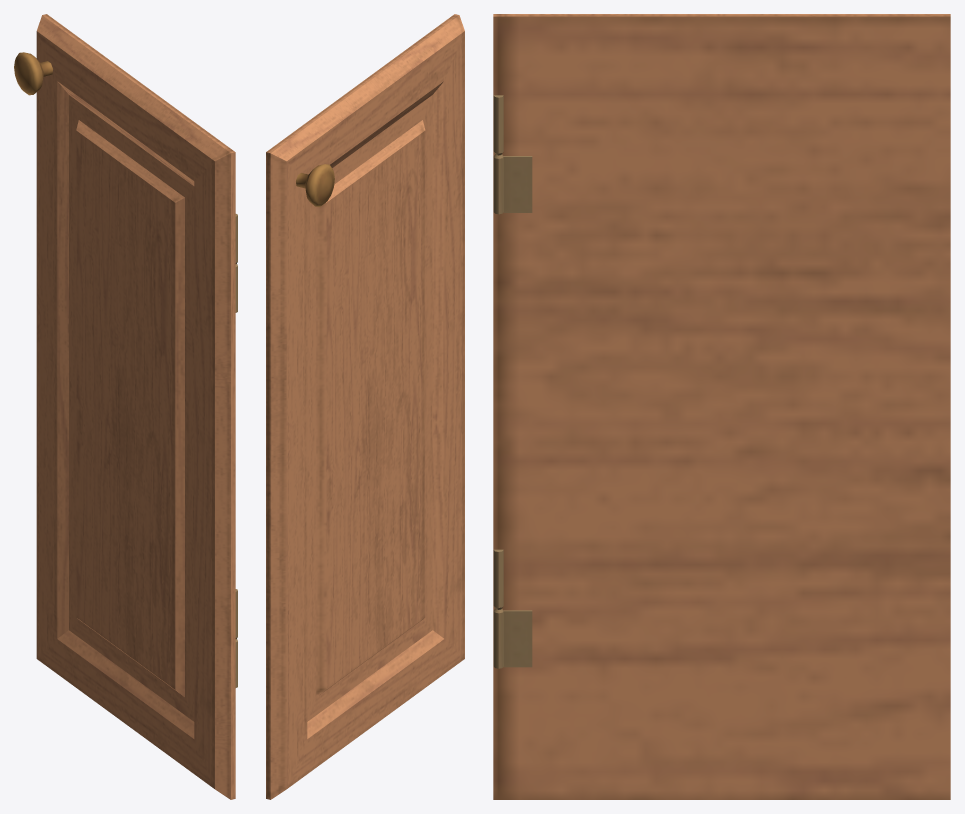
File: SM_BathShelf_A1_DoorB.fbx
3 views of the same model, side by side, from view 1: azimuth 30°, elevation 25°; view 2: azimuth 150°, elevation 25°; view 3: azimuth 270°, elevation 25° (orthographic). The views are drawn at different scales.
Visible parts, largest first — view 1: SM_BathShelf_A1_DoorB; view 2: SM_BathShelf_A1_DoorB; view 3: SM_BathShelf_A1_DoorB.
Boxes of the visible parts, x1=… form: SM_BathShelf_A1_DoorB: x1=14, y1=14, x2=237, y2=799; SM_BathShelf_A1_DoorB: x1=266, y1=14, x2=464, y2=799; SM_BathShelf_A1_DoorB: x1=493, y1=14, x2=950, y2=799.
Size of the model in its own units: 4.86 by 31.97 by 60.43.
Materials: 3 (3 with a texture image).
